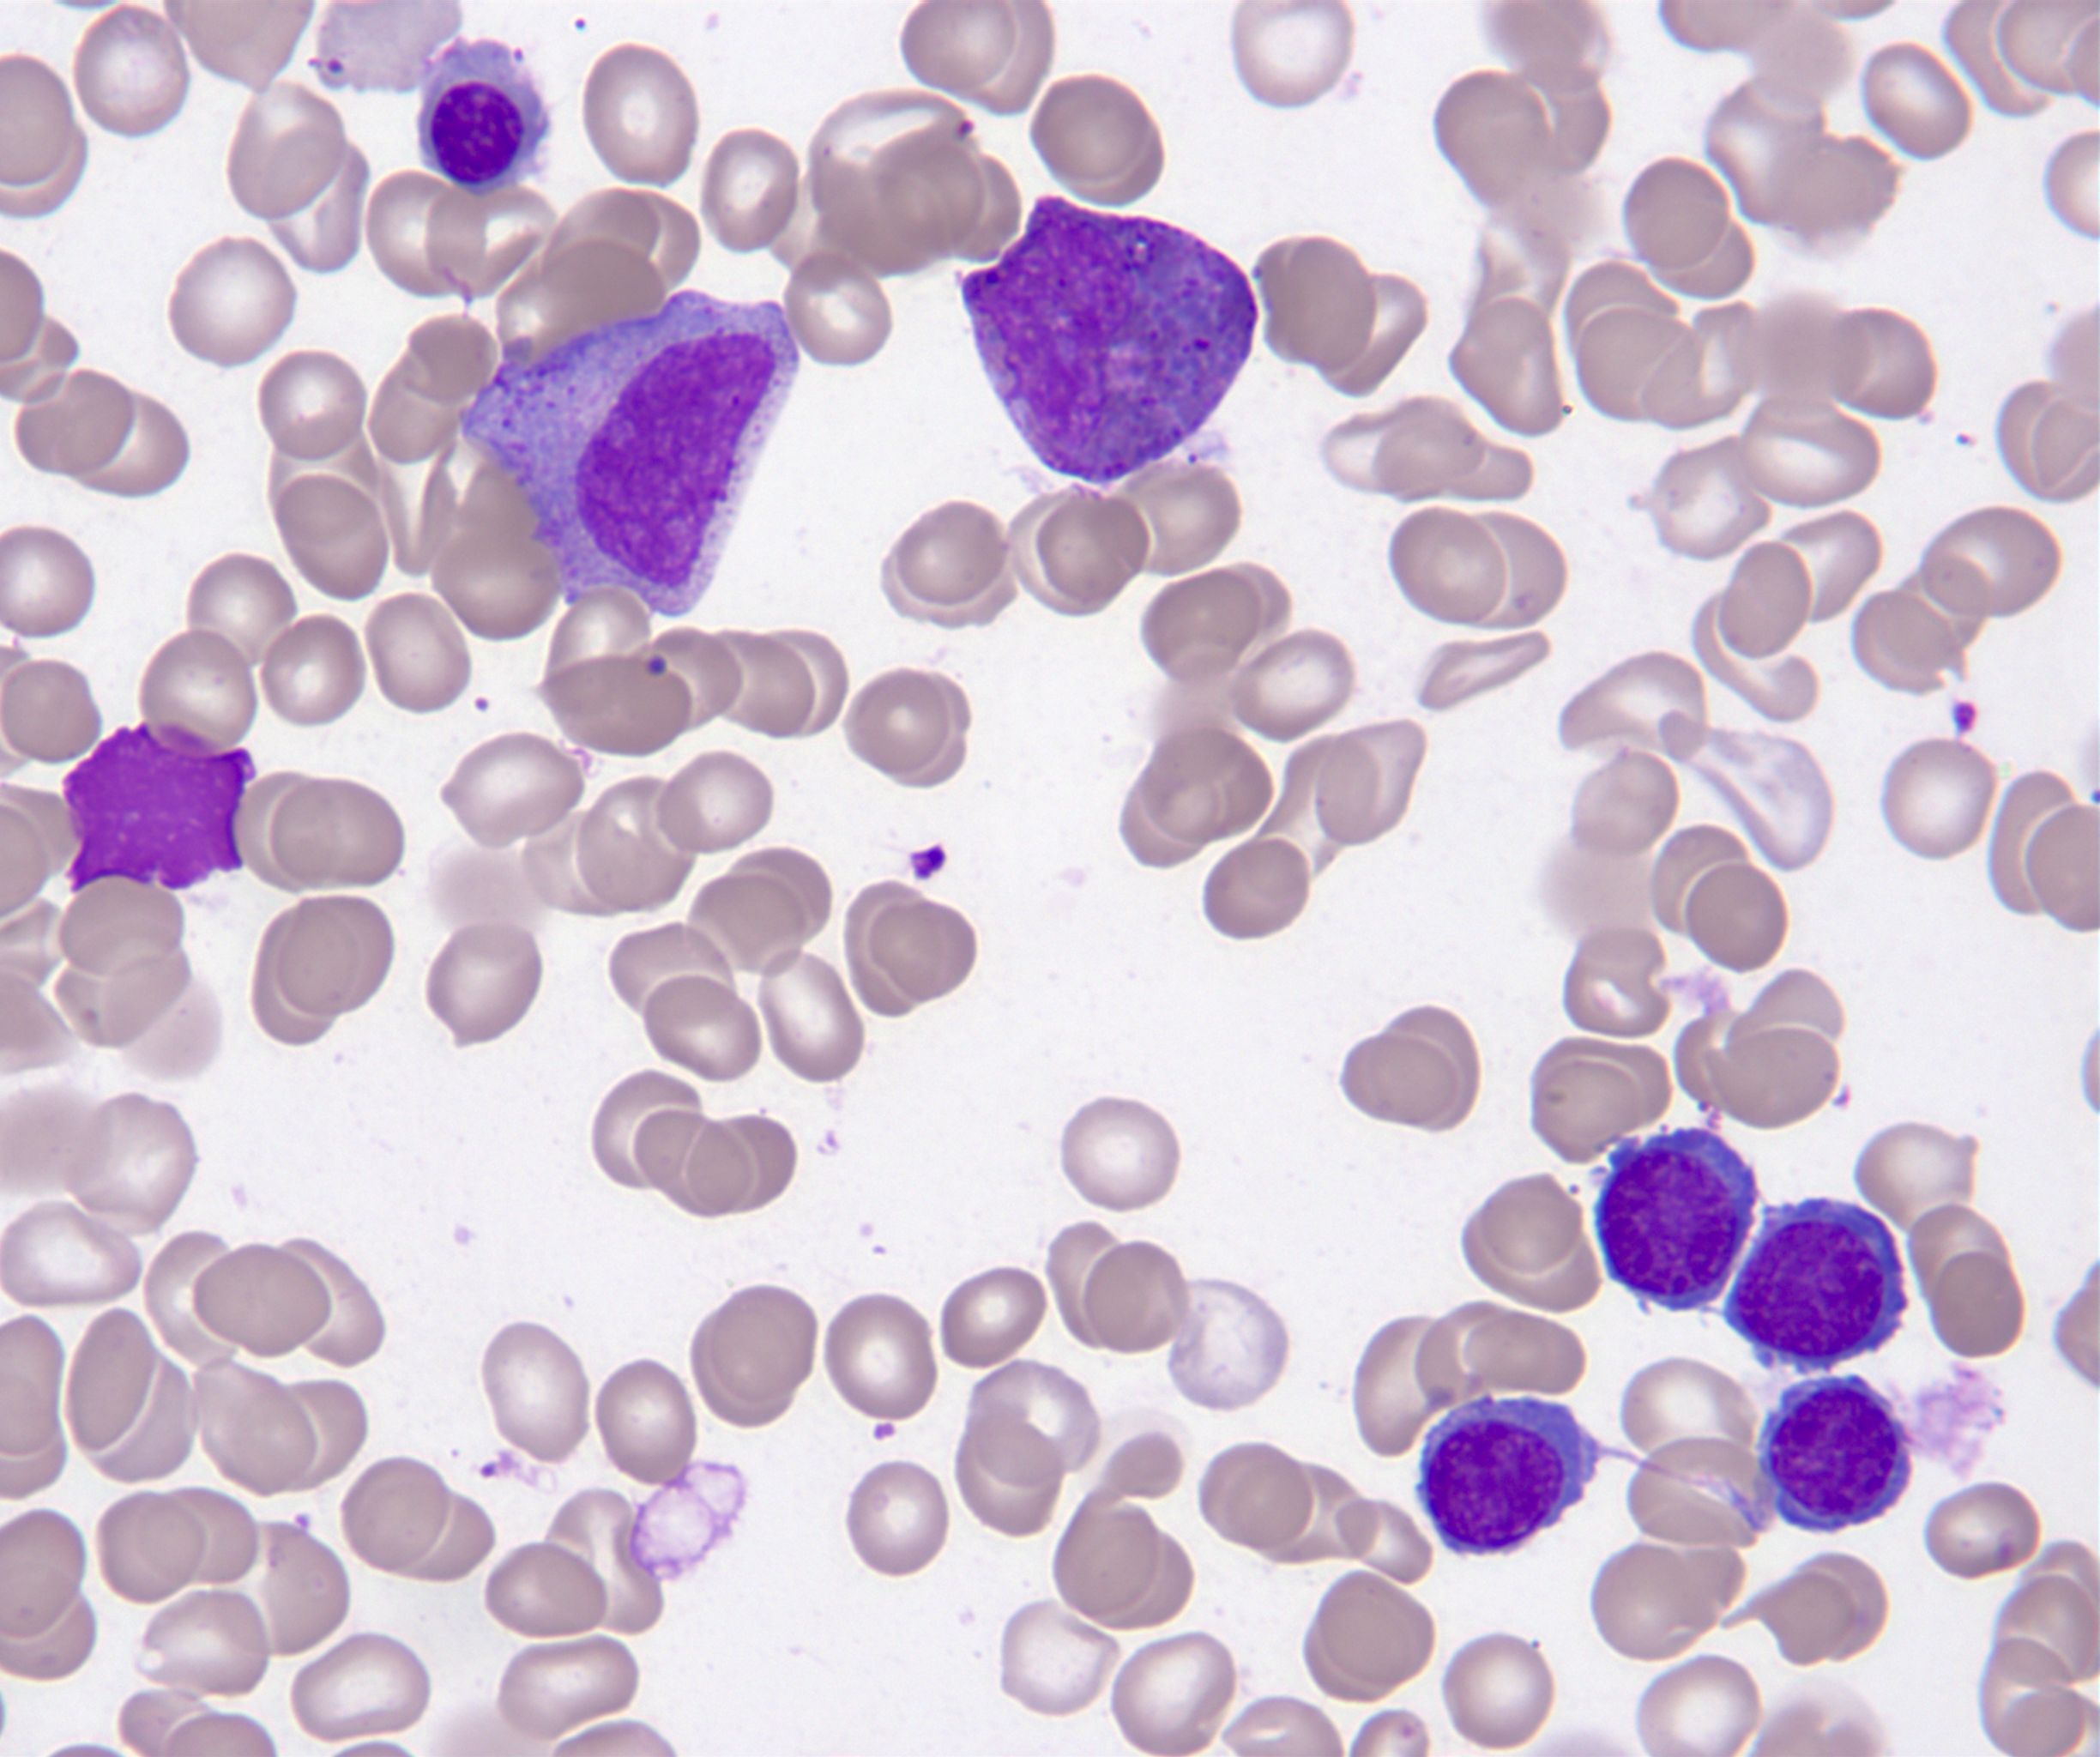2: (460, 290, 799, 618)
23: (1418, 1398, 1638, 1558), (1725, 1202, 1905, 1375), (1596, 1127, 1756, 1314), (1758, 1373, 1915, 1534)
24: (417, 33, 551, 195)
E1: (956, 197, 1254, 483)
x: (61, 722, 256, 893)
